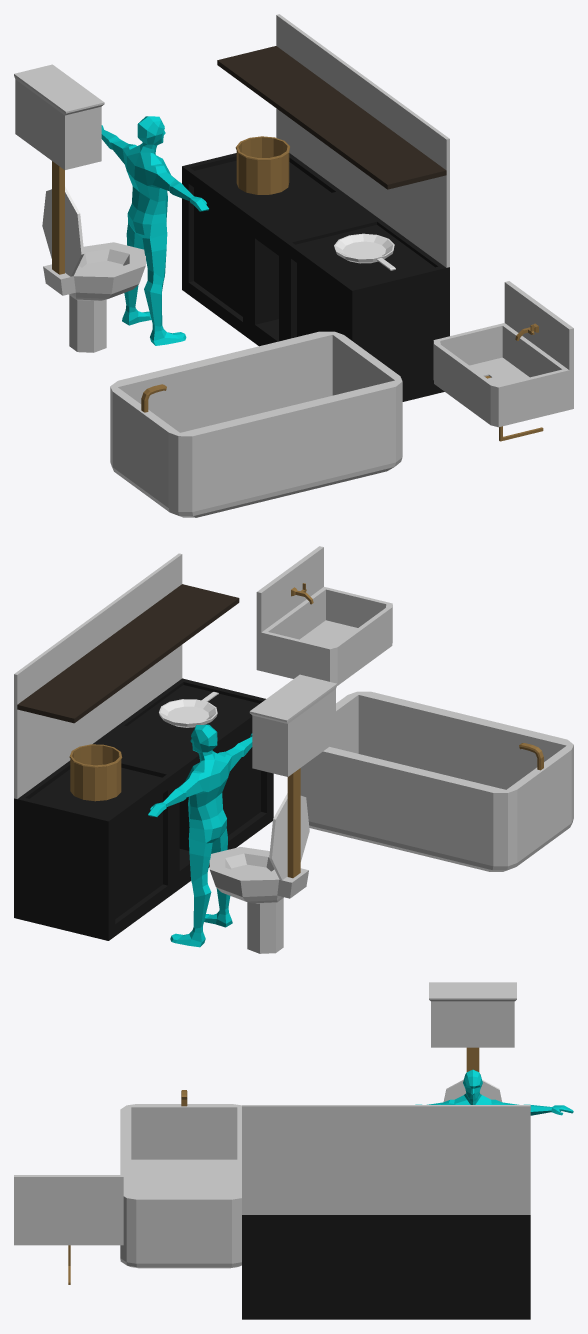
The model's file is Pemberely Kitchen.fbx.
3 views of the same model, one above another, from view 1: azimuth 30°, elevation 25°; view 2: azimuth 150°, elevation 25°; view 3: azimuth 270°, elevation 25° (orthographic). The views are drawn at different scales.
Visible parts, largest first — view 1: Oven, Tub, Toilet, Sink, LowMan, Pot, Seat, Pan; view 2: Oven, Tub, Toilet, Sink, LowMan, Pot, Seat, Pan; view 3: Oven, Tub, Sink, Toilet, LowMan, Seat.
Boxes of the visible parts, x1,y1,x2,y2 form: Oven: (182, 14, 449, 401); Tub: (110, 331, 402, 517); Toilet: (14, 64, 145, 352); Sink: (433, 281, 573, 441); LowMan: (101, 116, 208, 345); Pot: (235, 136, 289, 194); Seat: (42, 186, 84, 276); Pan: (334, 233, 395, 270); Oven: (14, 553, 273, 940); Tub: (300, 691, 573, 871); Toilet: (209, 674, 337, 953); Sink: (256, 546, 392, 685); LowMan: (148, 724, 252, 947); Pot: (69, 744, 122, 801); Seat: (269, 793, 309, 880); Pan: (159, 692, 218, 727); Oven: (242, 1105, 530, 1319); Tub: (120, 1090, 241, 1268); Sink: (14, 1175, 123, 1284); Toilet: (429, 982, 516, 1071); LowMan: (415, 1069, 573, 1115); Seat: (443, 1079, 501, 1101).
Size of the model in its own units: 582 by 430 by 970.
